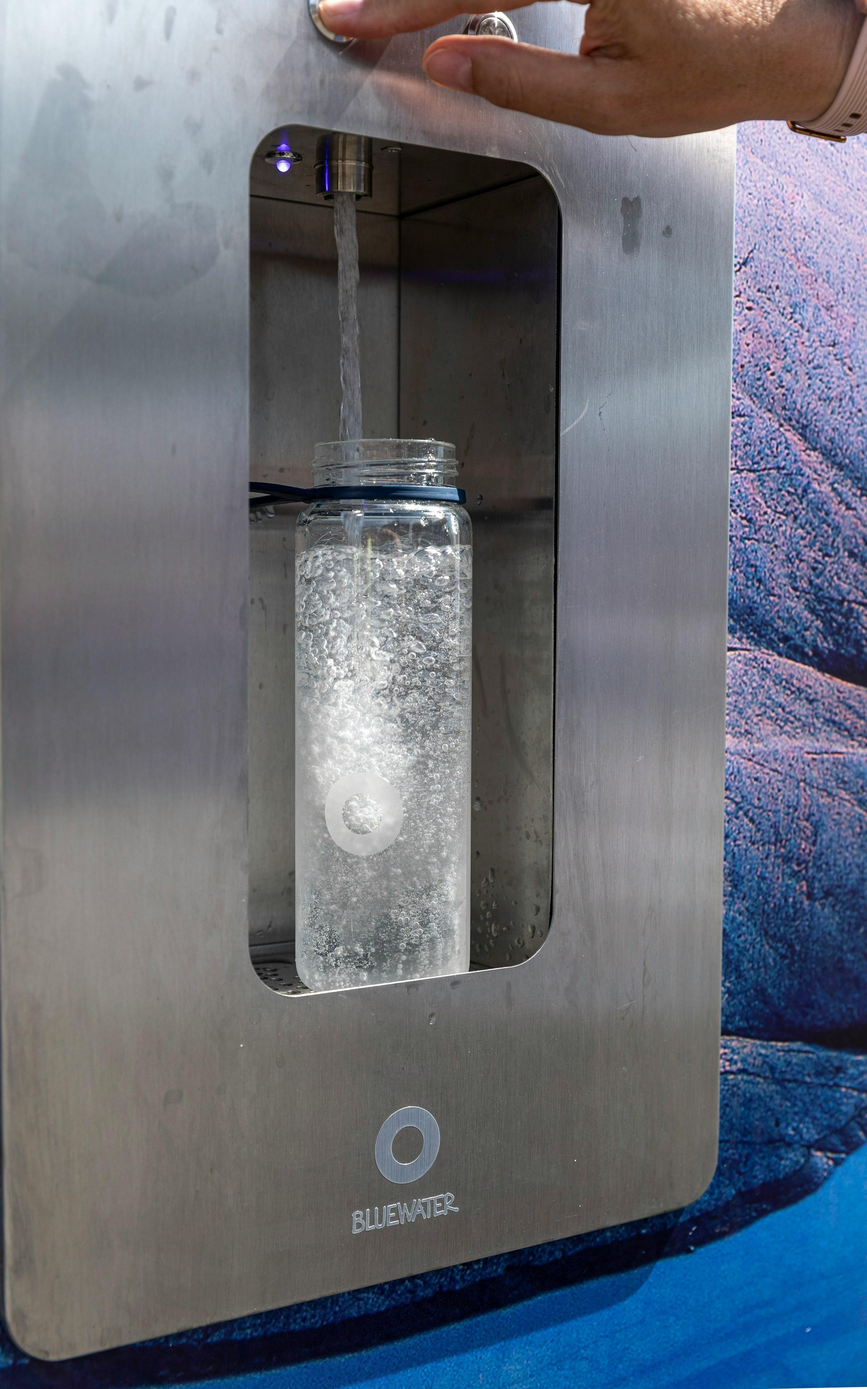Bottle-Detection: (254, 368, 549, 1017)
